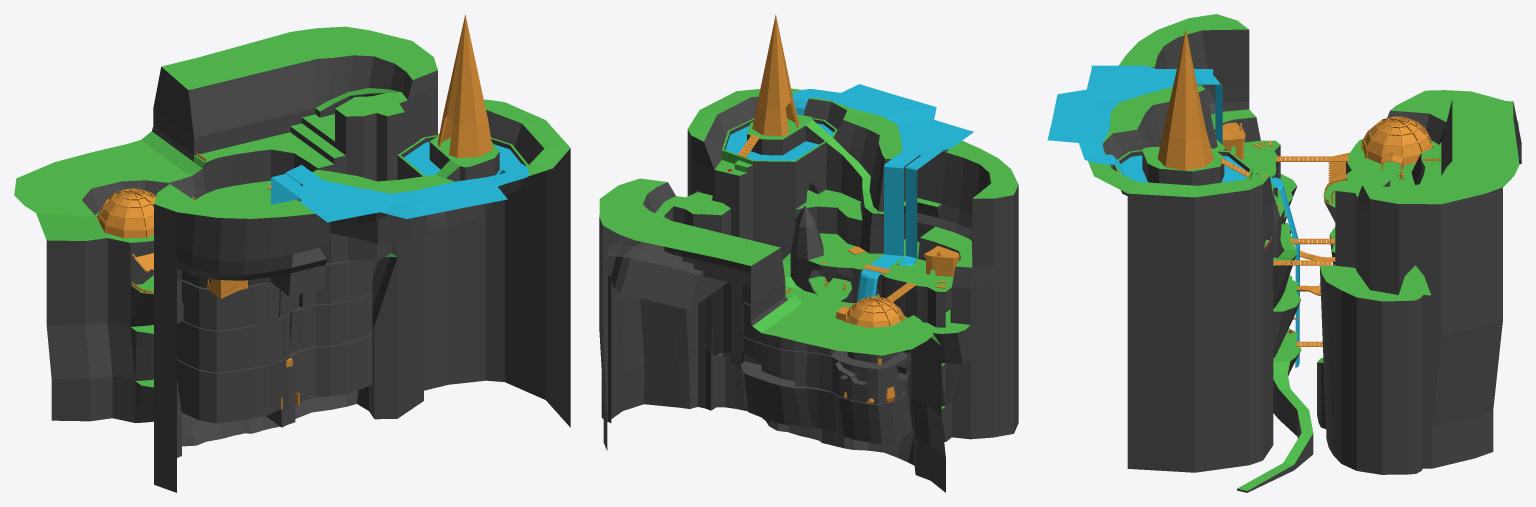
The model's file is corneta_rework_v7.fbx.
3 renders of one model, left to right at view 1: azimuth 30°, elevation 25°; view 2: azimuth 150°, elevation 25°; view 3: azimuth 270°, elevation 25°, orthographic. The views are drawn at different scales.
Parts seen in each view (by area): view 1: Cube.005; view 2: Cube.005; view 3: Cube.005.
Part boxes in pixels (x1,y1,x2,y2): Cube.005: (14,14,570,492); Cube.005: (599,14,1018,492); Cube.005: (1047,14,1521,492).
Bounding box in the file's own units: 21491 × 19620 × 20574.
